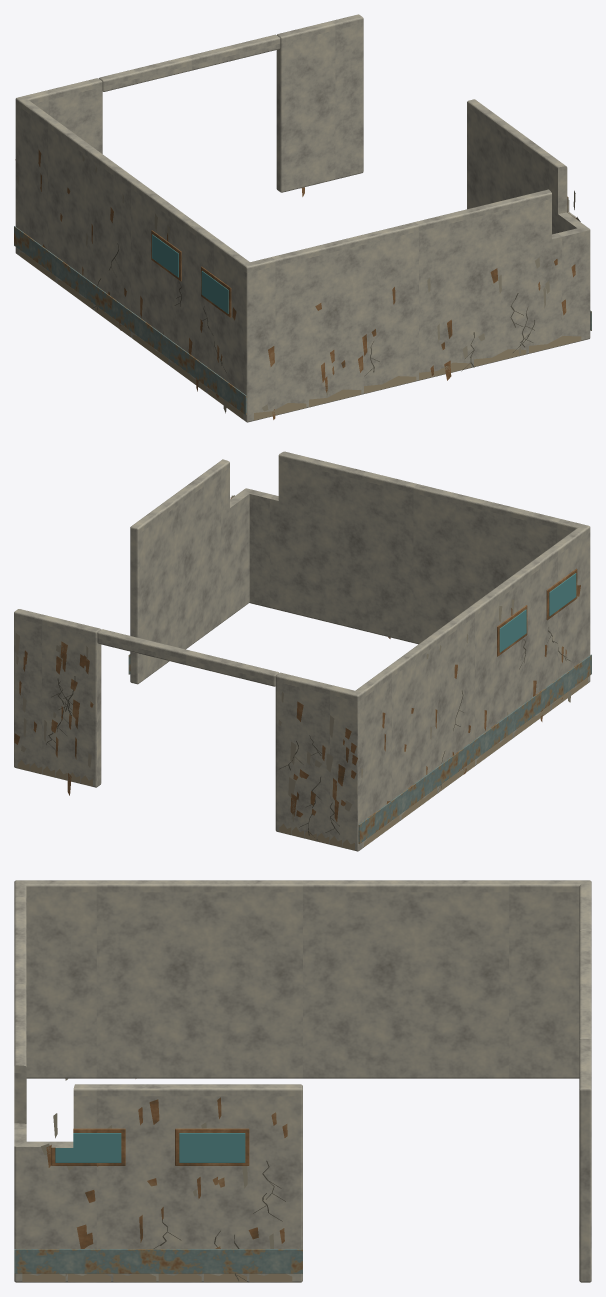
Rendered from Boat_Shed_Walls.glb.
The picture shows the model from 3 angles, top to bottom: view 1: azimuth 30°, elevation 25°; view 2: azimuth 150°, elevation 25°; view 3: azimuth 270°, elevation 25°; orthographic projection. The views are drawn at different scales.
Visible parts, largest first — view 1: Boat_Shed_Walls; view 2: Boat_Shed_Walls; view 3: Boat_Shed_Walls.
Part boxes in pixels (x1,y1,x2,y2): Boat_Shed_Walls: (14, 14, 591, 422); Boat_Shed_Walls: (14, 451, 591, 851); Boat_Shed_Walls: (14, 880, 591, 1282).
Bounding box in the file's own units: 12.14 × 5.68 × 14.01.
7 materials, 3 textured.
